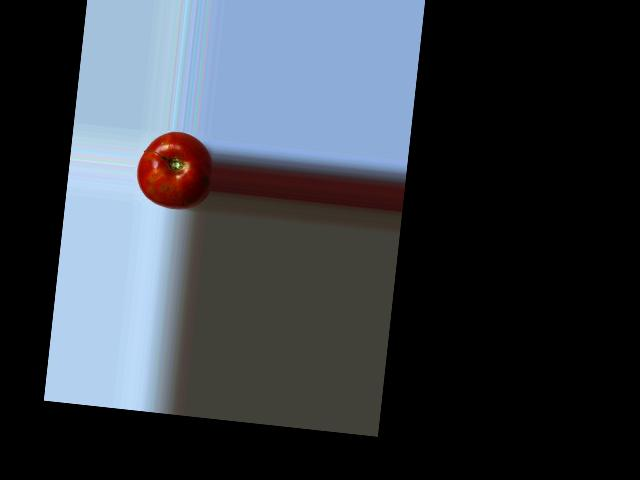tomato: (134, 128, 216, 212)
